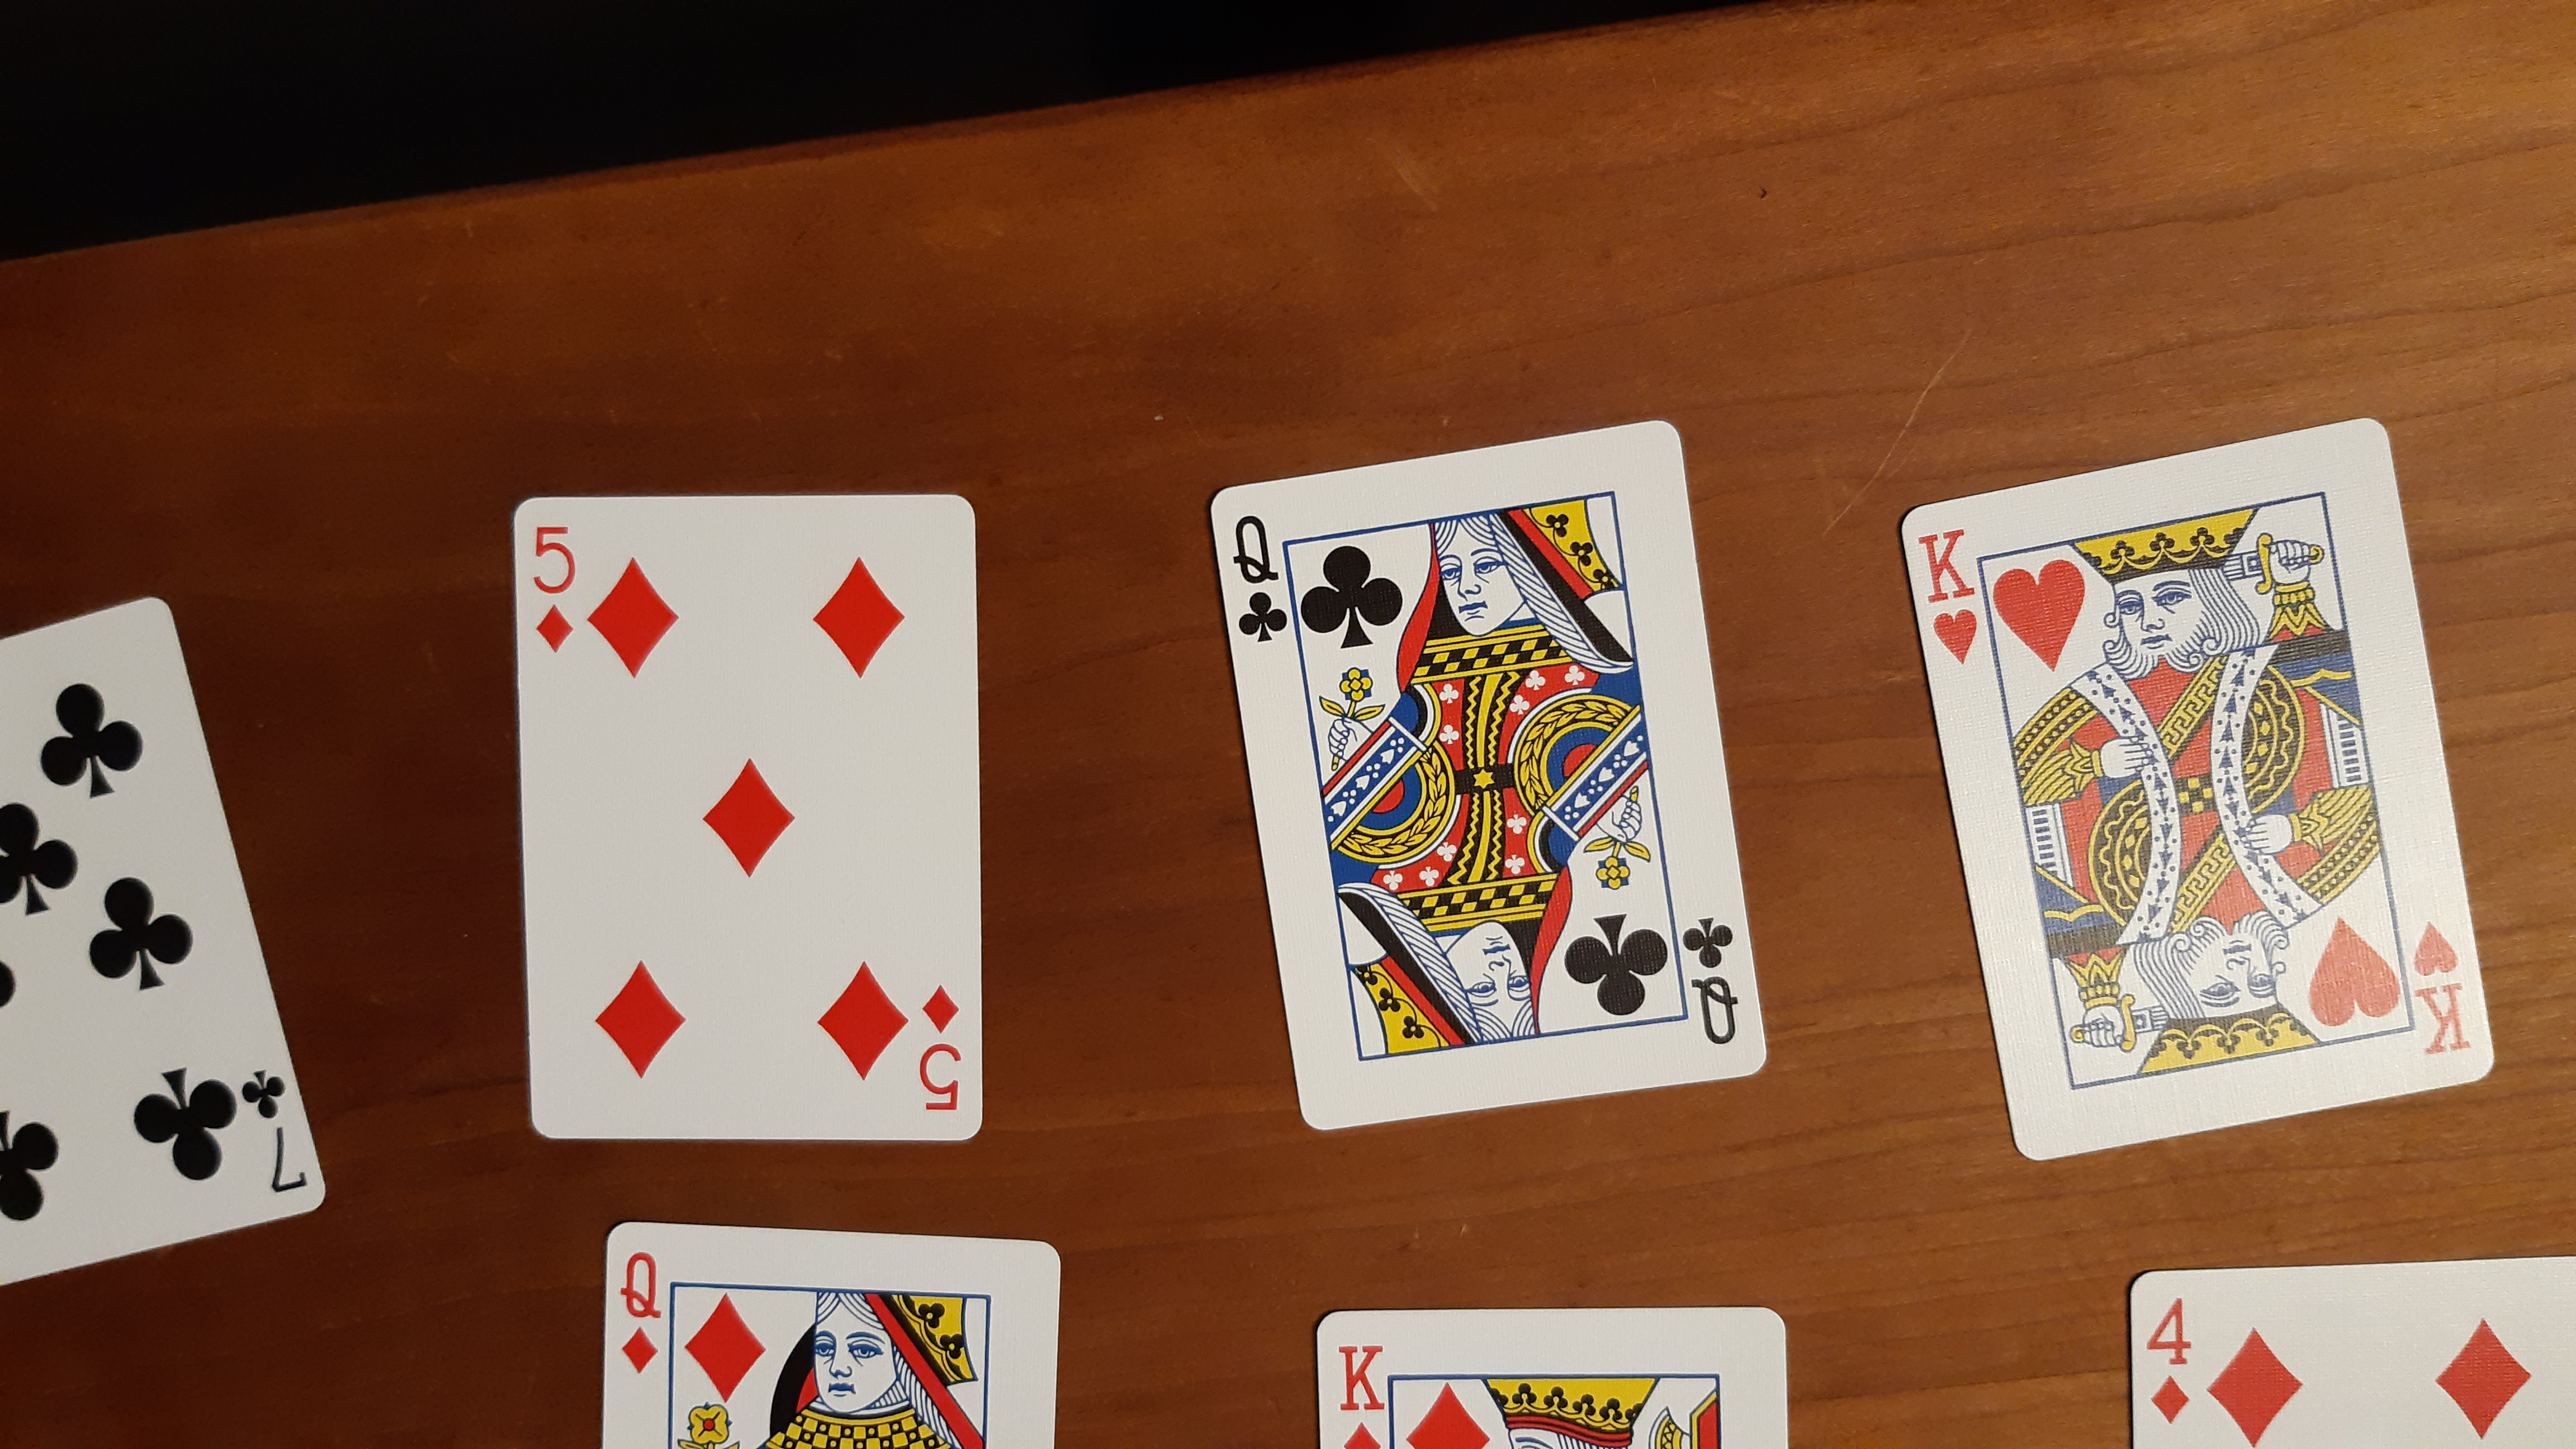Black_Club_7: (244, 1065, 320, 1196)
Black_Club_Queen: (1677, 902, 1759, 1062), (1226, 508, 1293, 648)
Red_Diamond_4: (2137, 1283, 2201, 1431)
Red_Diamond_5: (918, 971, 970, 1122), (522, 524, 579, 653)
Red_Diamond_King: (1332, 1330, 1391, 1447)
Red_Diamond_Queen: (617, 1244, 665, 1380)
Red_Heart_King: (1907, 520, 1992, 674), (2403, 915, 2482, 1058)
